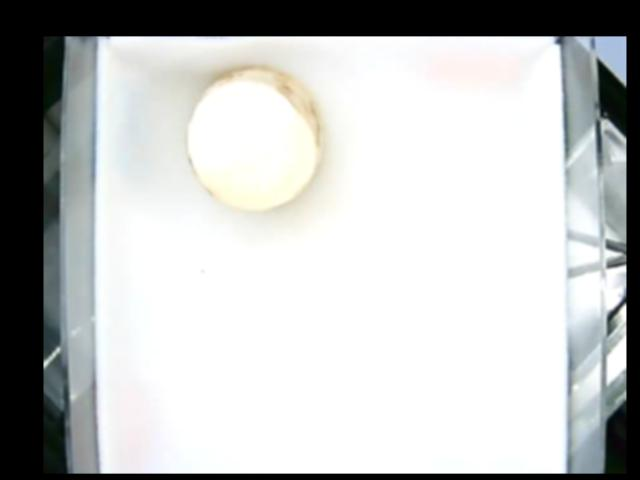Mooli: (188, 64, 322, 208)
